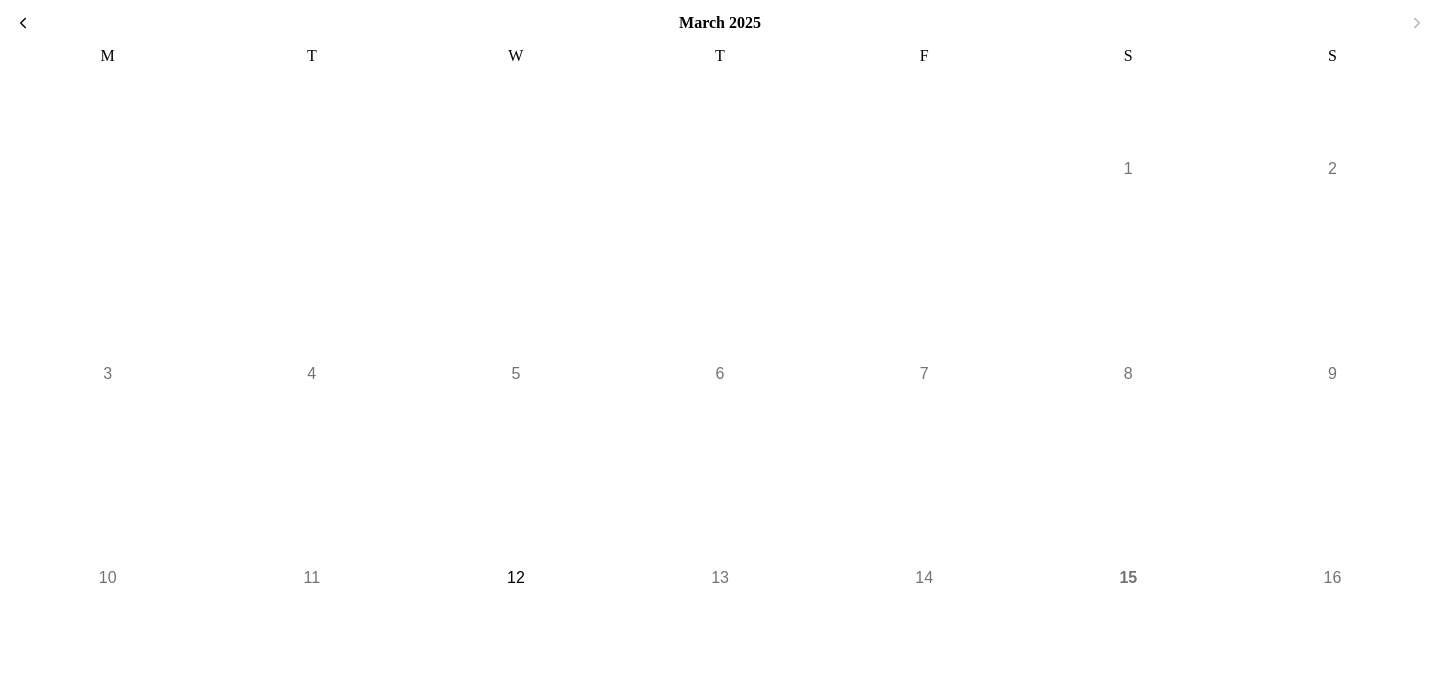
it: QueuedleCalendar › navigates to the previous month when the prev button is clicked
Click the button named "Previous month" at point(23, 23), box [8,8,37,37]
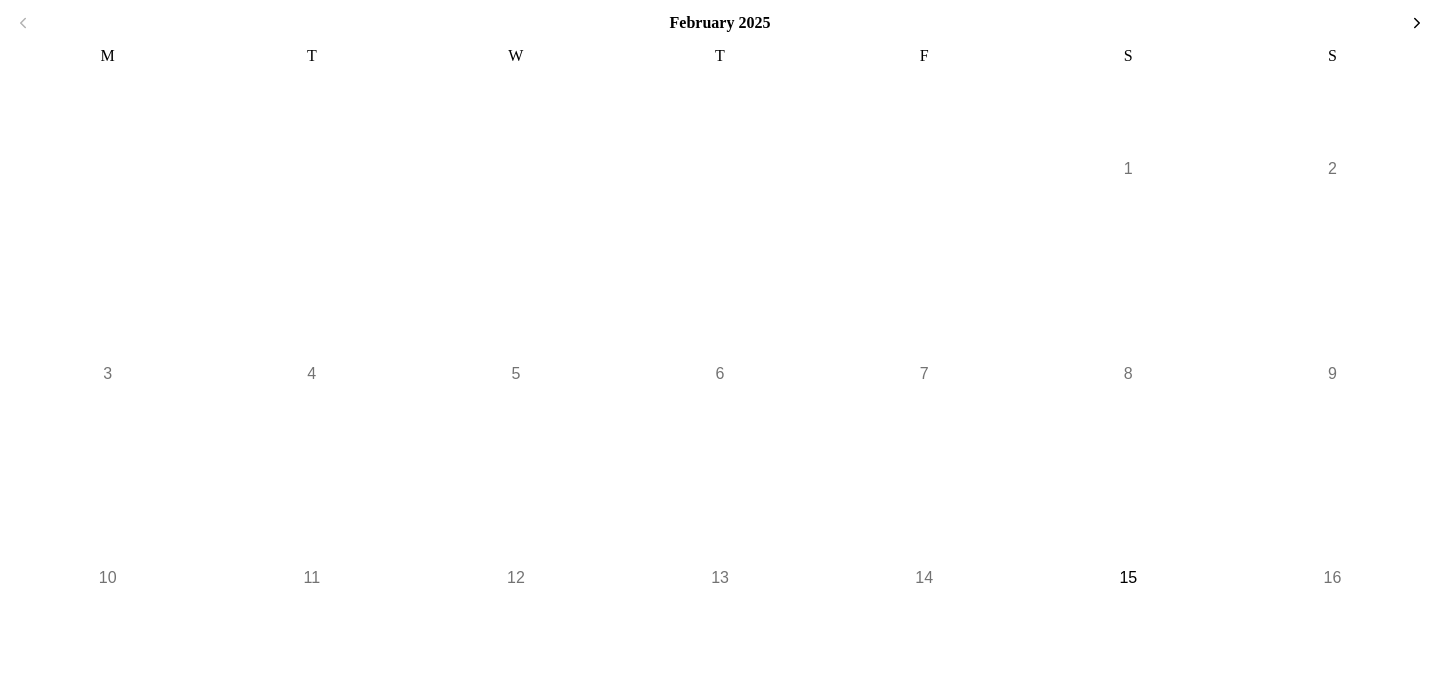
expect the text "February 2025" is shown: met, box [670,14,770,32]
